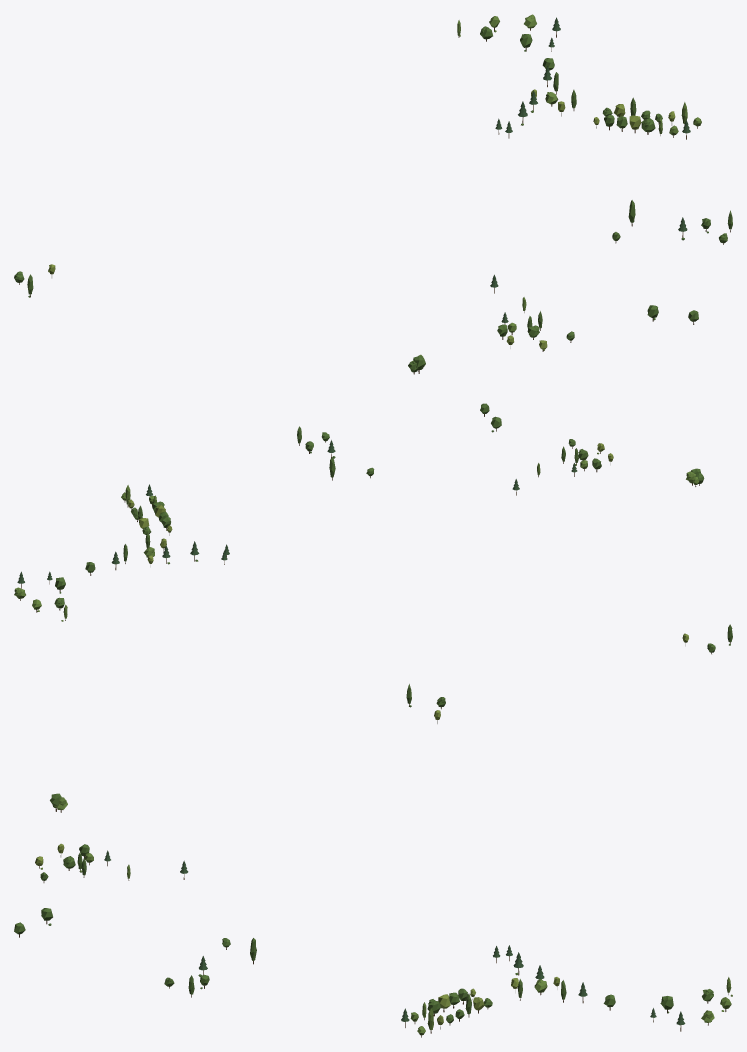
The model's file is Natura_0_1.fbx.
3 views of the same model, one above another, from view 1: azimuth 30°, elevation 25°; view 2: azimuth 150°, elevation 25°; view 3: azimuth 270°, elevation 25° (orthographic). The views are drawn at different scales.
Size of the model in its own units: 470 by 17.67 by 428.
